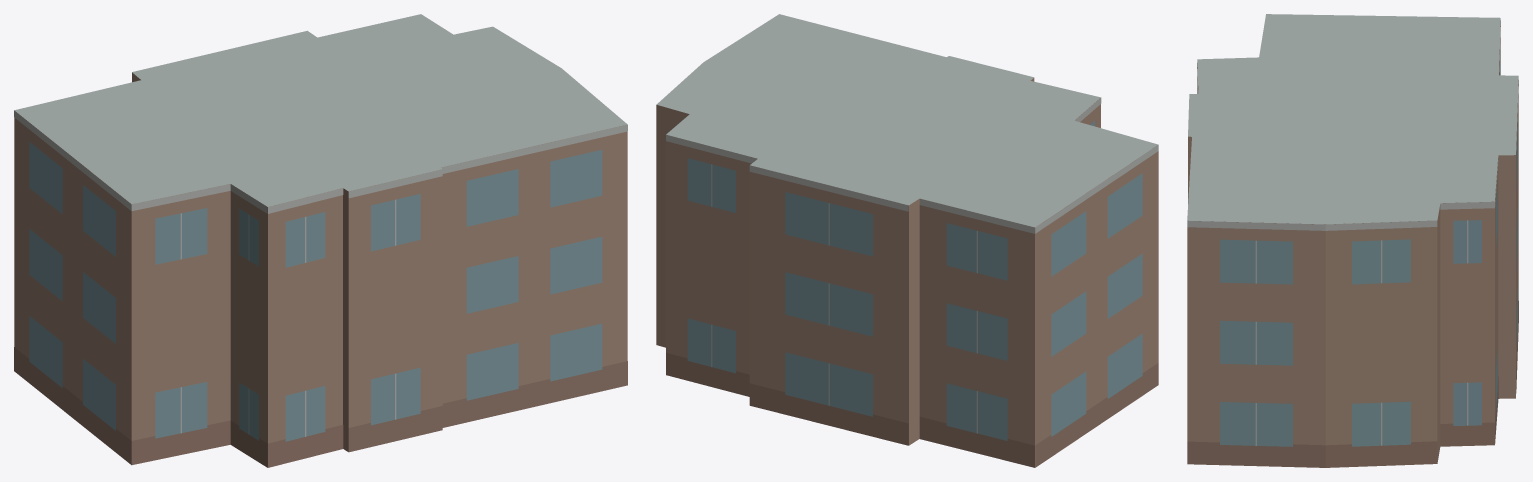
File: survey-upis-33017702.glb
3 views of the same model, side by side, from view 1: azimuth 30°, elevation 25°; view 2: azimuth 150°, elevation 25°; view 3: azimuth 270°, elevation 25° (orthographic). The views are drawn at different scales.
Visible parts, largest first — view 1: survey-upis-33017702.tmp; view 2: survey-upis-33017702.tmp; view 3: survey-upis-33017702.tmp.
Part boxes in pixels (x1,y1,x2,y2): survey-upis-33017702.tmp: [14, 14, 627, 467]; survey-upis-33017702.tmp: [656, 14, 1158, 467]; survey-upis-33017702.tmp: [1187, 14, 1518, 467].
Size of the model in its own units: 16.97 by 9.15 by 11.31.
